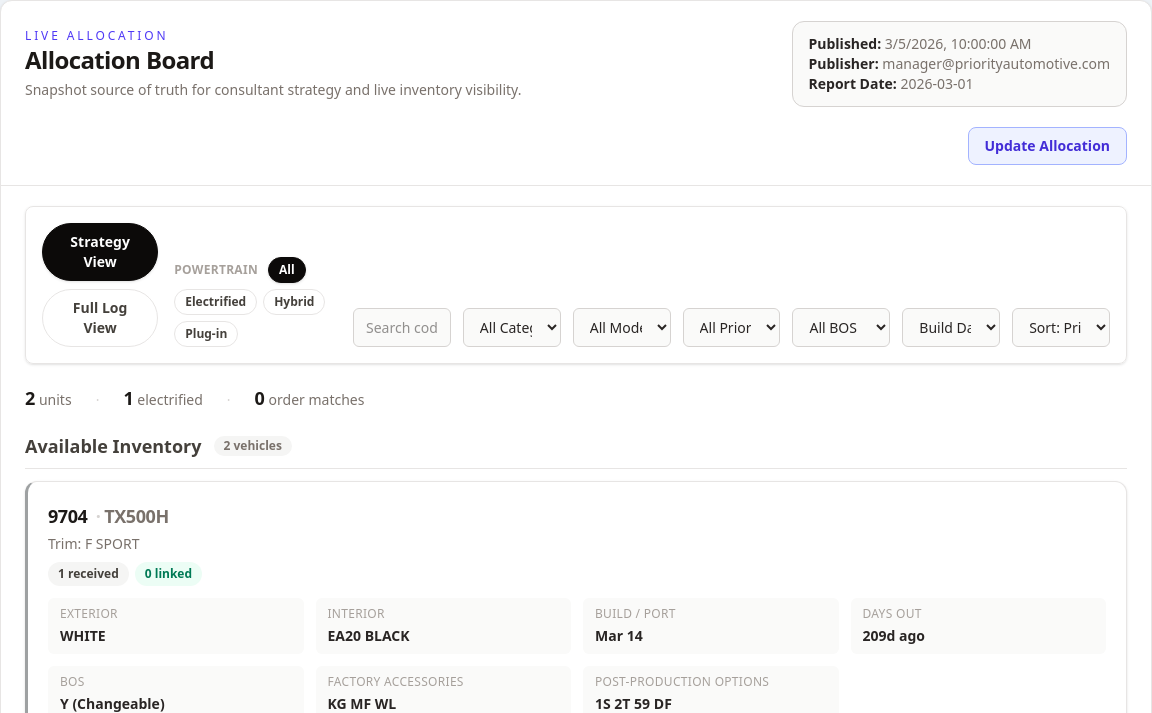
Test case: AllocationBoard › shows collapsible manager panel for managers
This screenshot has width=1152, height=713.
Step 1. Click the button with test id "allocation-manager-toggle" → click(1047, 146), box [968,127,1127,165]
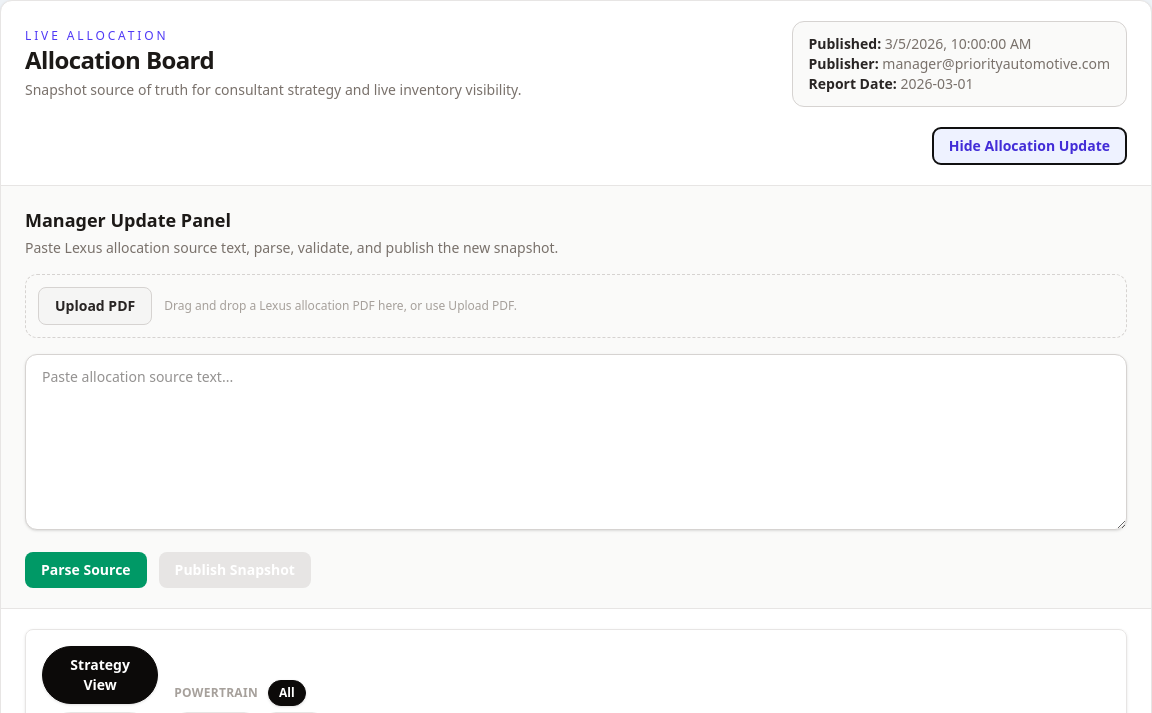
expect the element with test id "allocation-manager-panel" is shown: met, box [1,186,1151,609]
expect the button "Parse Source" is shown: met, box [25,552,147,588]
expect the button "Publish Snapshot" is shown: met, box [159,552,311,588]
